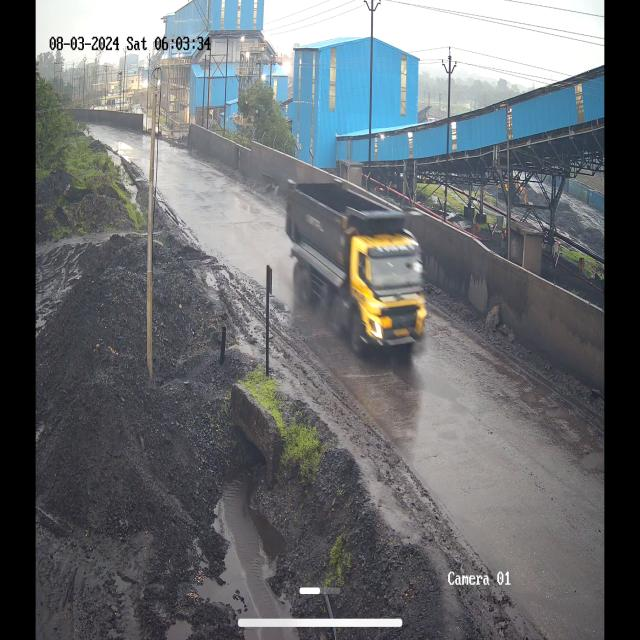dump_truck: (284, 160, 430, 376)
